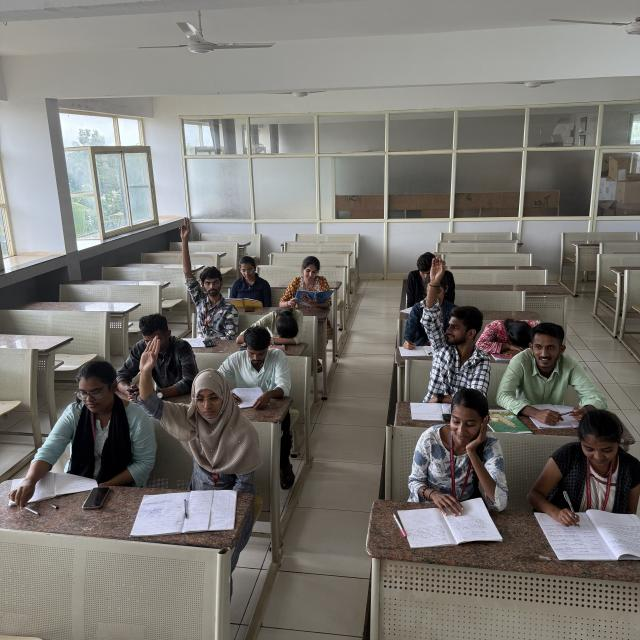Hand Rising: (131, 342, 251, 483), (149, 208, 239, 335), (420, 261, 490, 394)
Reading: (402, 397, 520, 536), (11, 362, 135, 488), (205, 328, 296, 407), (278, 250, 356, 314), (219, 245, 277, 315), (390, 248, 442, 314)
Sleeping: (239, 302, 327, 357), (487, 300, 552, 356)
Using Phone: (101, 318, 201, 396)
Writing: (534, 417, 638, 554), (399, 280, 460, 356)
